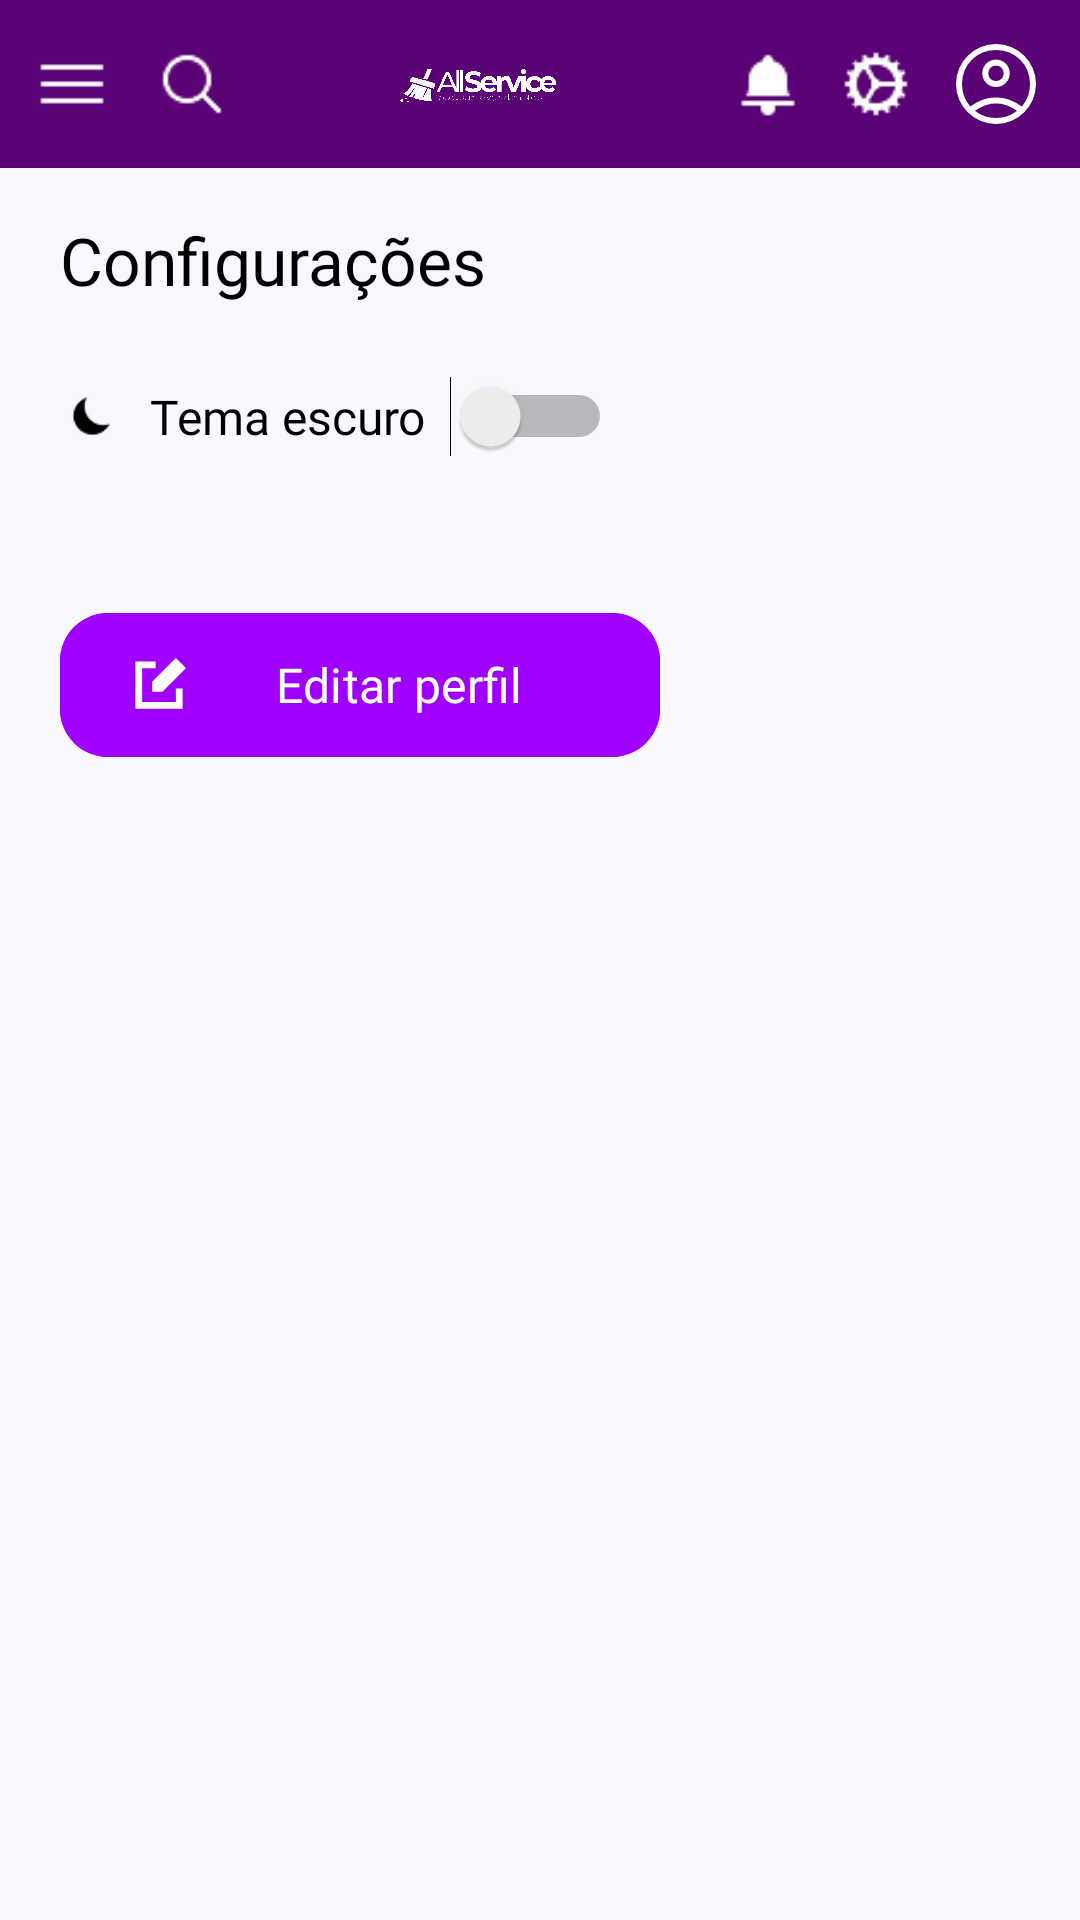

Locate icon controls on the screen. Image size 1080 × 1920, boxes as (x1, y1, x2, y2).
menu: (40, 64, 104, 104)
moon: (73, 397, 110, 435)
notification: (741, 54, 795, 116)
person: (956, 44, 1036, 124)
search: (162, 54, 222, 114)
settings: (844, 52, 908, 116)
